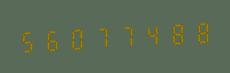eight: (161, 17, 184, 49), (185, 16, 208, 48)
five: (17, 25, 40, 56)
four: (137, 18, 160, 50)
seven: (89, 21, 112, 53), (113, 20, 136, 51)
six: (41, 23, 64, 55)
zero: (65, 22, 88, 54)
